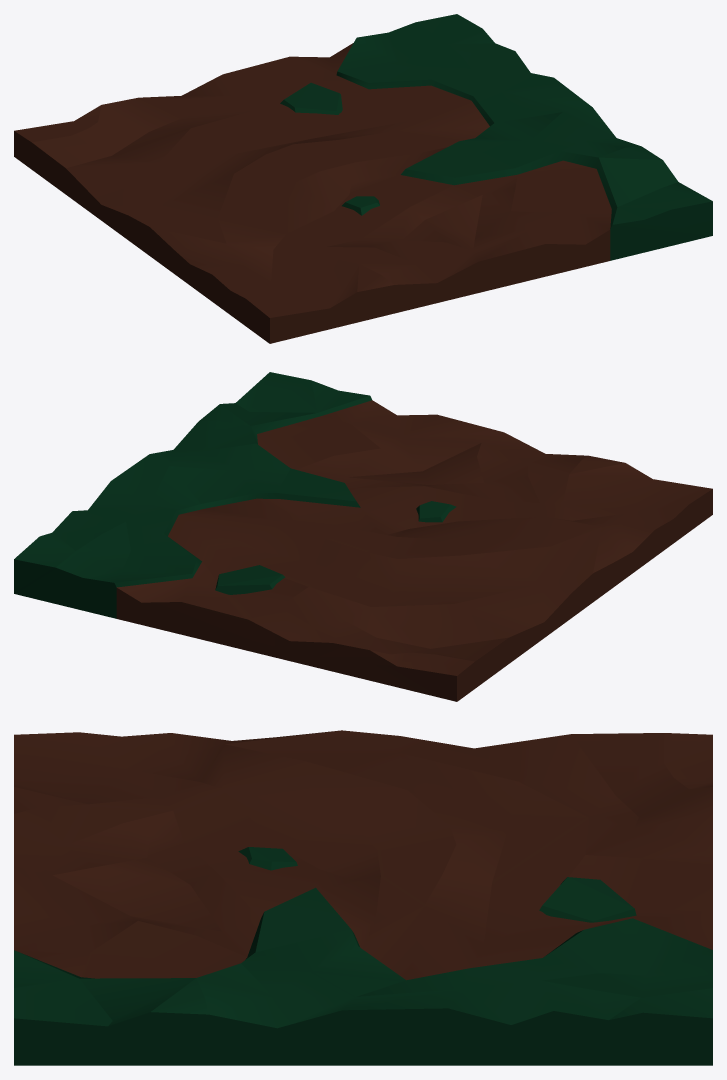
File: Ground_Edge_R.fbx
The picture shows the model from 3 angles, top to bottom: view 1: azimuth 30°, elevation 25°; view 2: azimuth 150°, elevation 25°; view 3: azimuth 270°, elevation 25°; orthographic projection. The views are drawn at different scales.
Visible parts, largest first — view 1: Ground_Edge_R; view 2: Ground_Edge_R; view 3: Ground_Edge_R.
Part boxes in pixels (box(x1,y1,x2,y2)): Ground_Edge_R: box(14, 14, 712, 343); Ground_Edge_R: box(14, 372, 712, 701); Ground_Edge_R: box(14, 730, 712, 1065).
Size of the model in its own units: 147 by 13.25 by 147.
